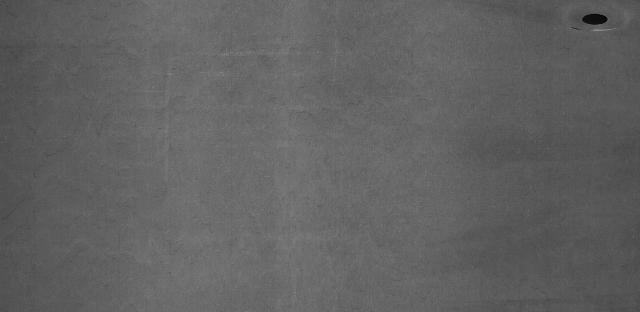punching_hole: (580, 8, 613, 28)
silk_spot: (221, 11, 399, 264), (10, 22, 158, 278)
